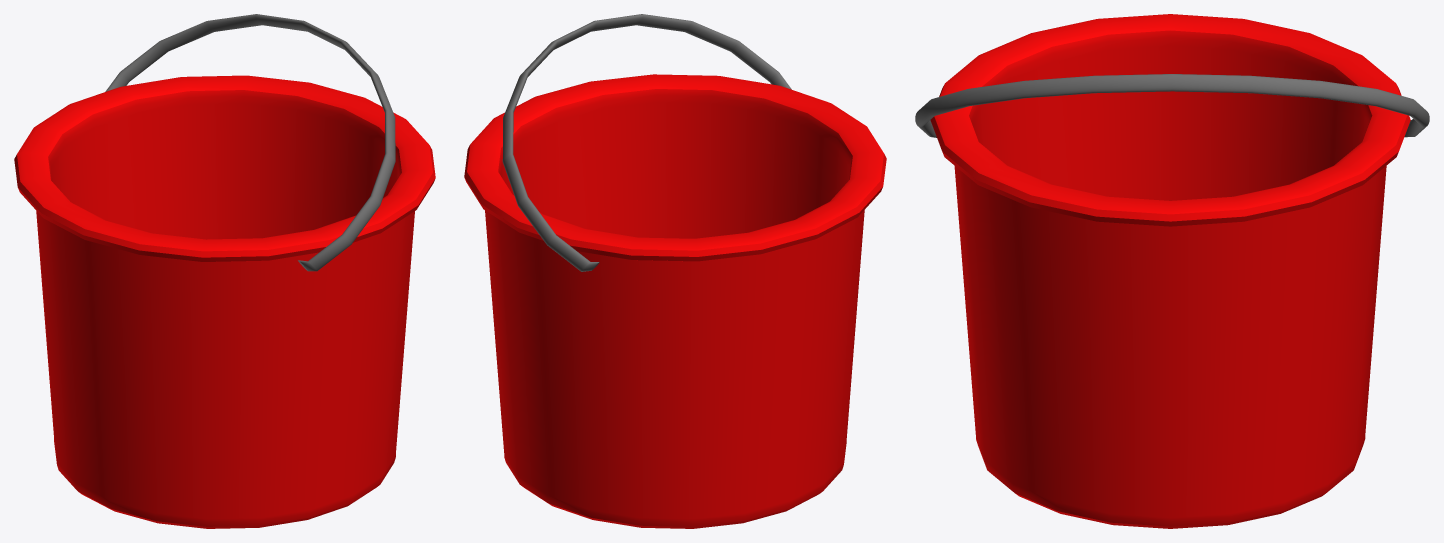
Rendered from emmer.fbx.
The picture shows the model from 3 angles, left to right: view 1: azimuth 30°, elevation 25°; view 2: azimuth 150°, elevation 25°; view 3: azimuth 270°, elevation 25°; orthographic projection. The views are drawn at different scales.
Visible parts, largest first — view 1: emmer2; view 2: emmer2; view 3: emmer2.
Boxes of the visible parts, left/top/right/bottom form: emmer2: left=14, top=14, right=435, bottom=528; emmer2: left=464, top=14, right=886, bottom=528; emmer2: left=915, top=14, right=1429, bottom=528.
Size of the model in its own units: 10.75 by 10.93 by 11.52.
